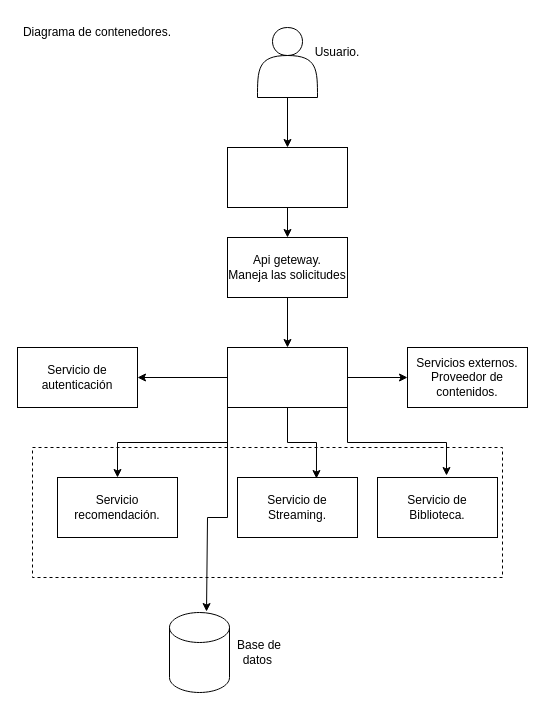
This 545x710 diagram has some shape labels left out. The shapes that lost their labels are listed below. From the top down, each one's centre as x and y in pixels, then its label:
At [287,177]: "Aplicación cliente. Web op móvil".
At [287,377]: "Servicio backend".
